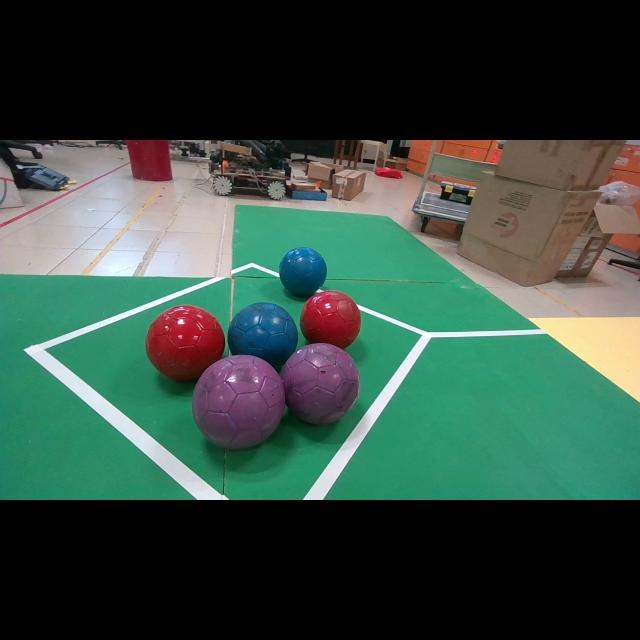B: (228, 302, 298, 368), (279, 248, 326, 296)
P: (192, 355, 285, 449), (281, 344, 360, 424)
R: (145, 305, 225, 380), (300, 290, 361, 349)
